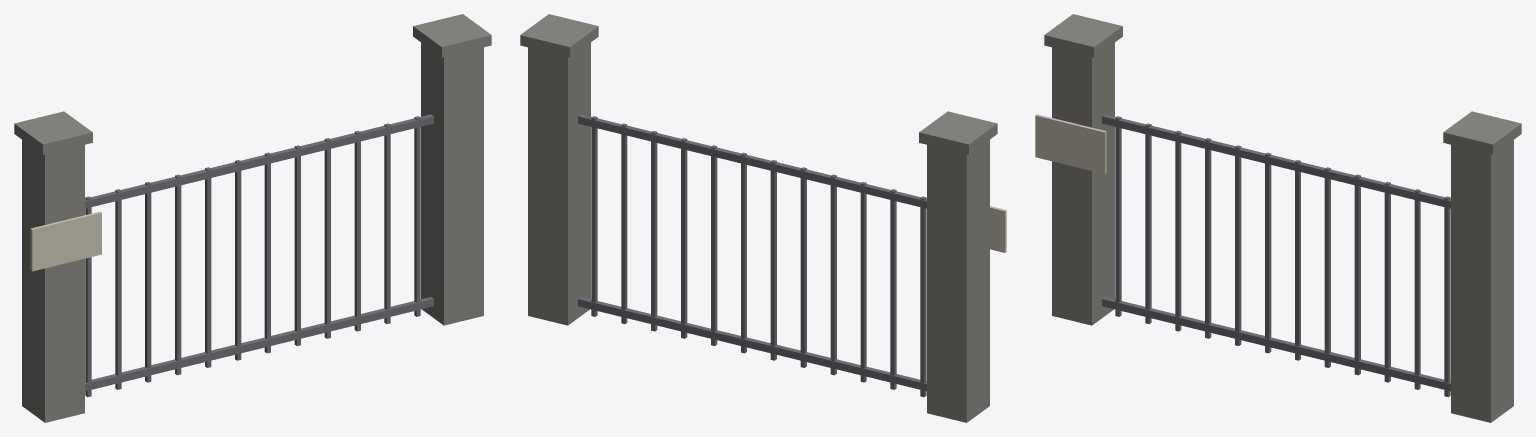
The model's file is SM_P1_School_Gate_A.obj.
3 views of the same model, side by side, from view 1: azimuth 30°, elevation 25°; view 2: azimuth 150°, elevation 25°; view 3: azimuth 330°, elevation 25° (orthographic).
Visible parts, largest first — view 1: pier_r, pier_l, rail_top, rail_bottom, name_plate, pier_cap_l, pier_cap_r, bar_2, bar_1, bar_5, bar_3, bar_4 (+7 smaller); view 2: pier_l, pier_r, rail_top, rail_bottom, pier_cap_l, pier_cap_r, bar_1, bar_5, bar_2, bar_0, bar_3, bar_4 (+7 smaller); view 3: pier_r, pier_l, rail_top, rail_bottom, name_plate, pier_cap_l, pier_cap_r, bar_9, bar_0, bar_11, bar_7, bar_8 (+7 smaller).
Part boxes in pixels (left/top/right/bottom): pier_r: left=421, top=42, right=483, bottom=325; pier_l: left=22, top=140, right=84, bottom=422; rail_top: left=85, top=114, right=433, bottom=208; rail_bottom: left=85, top=297, right=433, bottom=391; name_plate: left=30, top=211, right=101, bottom=271; pier_cap_l: left=14, top=111, right=92, bottom=154; pier_cap_r: left=413, top=14, right=491, bottom=57; bar_2: left=145, top=182, right=151, bottom=382; bar_1: left=115, top=189, right=121, bottom=389; bar_5: left=235, top=160, right=241, bottom=360; bar_3: left=175, top=174, right=181, bottom=375; bar_4: left=205, top=167, right=211, bottom=367; pier_l: left=927, top=140, right=989, bottom=422; pier_r: left=528, top=42, right=590, bottom=325; rail_top: left=578, top=114, right=926, bottom=208; rail_bottom: left=578, top=297, right=926, bottom=391; pier_cap_l: left=919, top=111, right=997, bottom=154; pier_cap_r: left=520, top=14, right=598, bottom=57; bar_1: left=890, top=189, right=896, bottom=389; bar_5: left=770, top=160, right=776, bottom=360; bar_2: left=860, top=182, right=866, bottom=382; bar_0: left=920, top=196, right=926, bottom=397; bar_3: left=830, top=174, right=836, bottom=375; bar_4: left=800, top=167, right=806, bottom=367; pier_r: left=1451, top=140, right=1513, bottom=422; pier_l: left=1052, top=42, right=1114, bottom=325; rail_top: left=1102, top=114, right=1450, bottom=208; rail_bottom: left=1102, top=297, right=1450, bottom=391; name_plate: left=1035, top=114, right=1106, bottom=173; pier_cap_l: left=1044, top=14, right=1122, bottom=57; pier_cap_r: left=1443, top=111, right=1521, bottom=154; bar_9: left=1384, top=182, right=1390, bottom=382; bar_0: left=1115, top=116, right=1121, bottom=316; bar_11: left=1444, top=196, right=1450, bottom=397; bar_7: left=1324, top=167, right=1330, bottom=367; bar_8: left=1354, top=174, right=1360, bottom=375.
Size of the model in its own units: 4.6 by 2.7 by 0.5.
